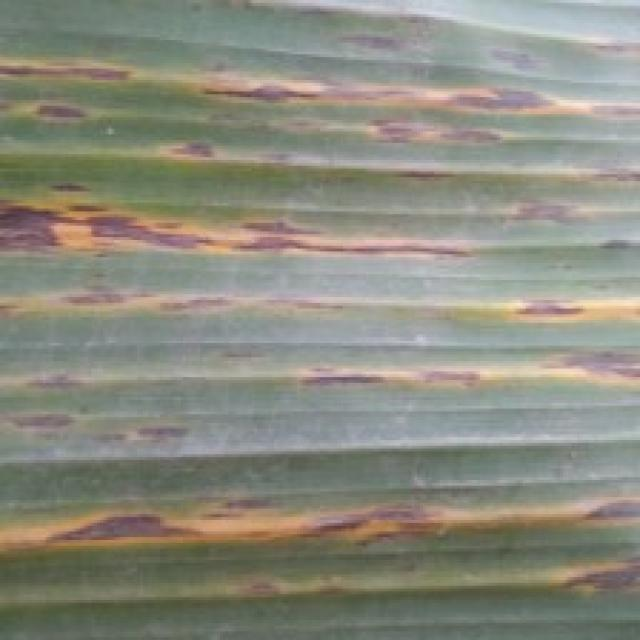Early_leaf_spot: (0, 443, 640, 572), (0, 161, 491, 271), (0, 261, 422, 335), (0, 337, 206, 476), (177, 56, 603, 123), (271, 0, 639, 71), (249, 347, 546, 405), (0, 47, 169, 143), (334, 111, 640, 164), (180, 534, 344, 610), (462, 546, 640, 614), (501, 332, 640, 410), (163, 119, 345, 178), (425, 168, 600, 228), (460, 280, 640, 326), (484, 152, 640, 195)
